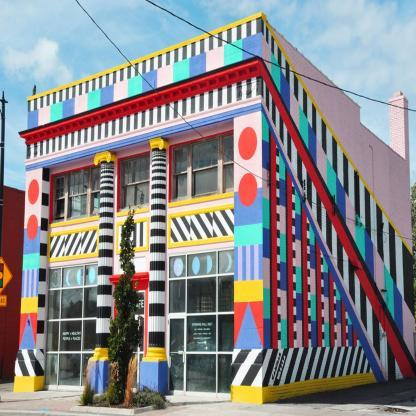Building Outline: (13, 11, 416, 404)
Cornice: (108, 272, 149, 286)
Dont: (70, 204, 171, 415)
Door: (117, 317, 144, 390), (166, 315, 187, 395)
Facade: (18, 11, 262, 403)
Molding: (18, 56, 262, 146)
Pillar: (140, 137, 169, 397), (88, 151, 117, 393)
Sill: (168, 191, 234, 208), (49, 216, 100, 229), (117, 208, 149, 217)
Window: (167, 247, 235, 395), (43, 261, 98, 388), (171, 132, 234, 203), (52, 166, 101, 223), (119, 153, 150, 212)
